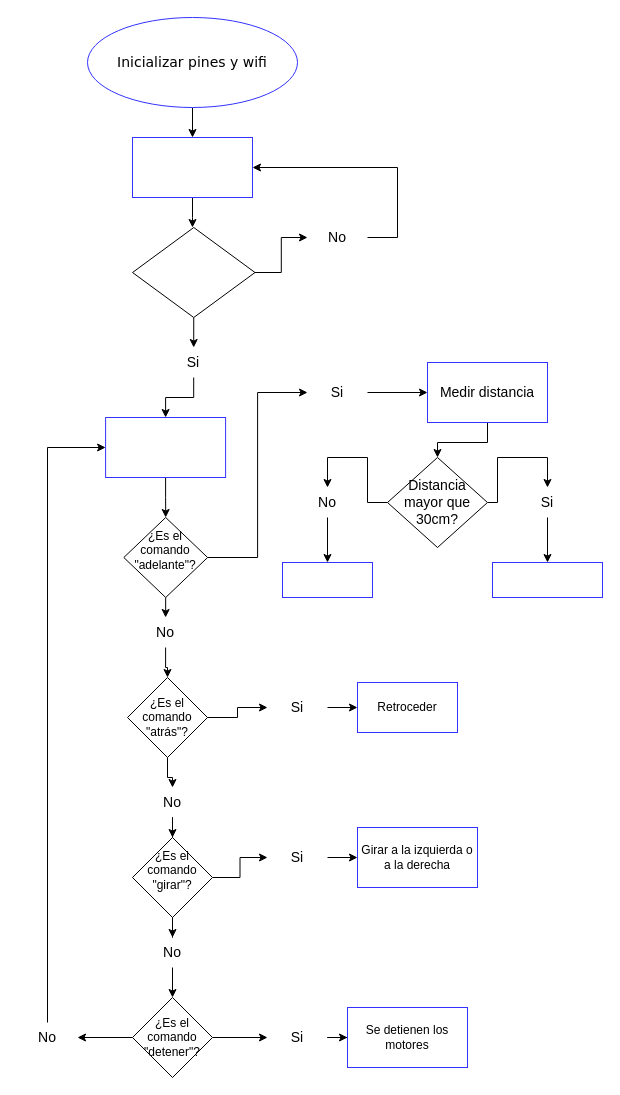
Some shapes in this 620 by 1095 pixel diagram are drawn without their labels. Each missing label, with the box of its shape:
(Configurar wifi) La raspberry se conecta a la red wifi: (132, 136, 252, 198)
Conexión exitosa, servidor web on: (132, 226, 255, 318)
El robot avanza: (492, 562, 602, 598)
Esperar Comando (El robot esta esperando un comando desde la interfaz grafica): (105, 416, 226, 478)
Se detiene los motores: (282, 562, 372, 598)
